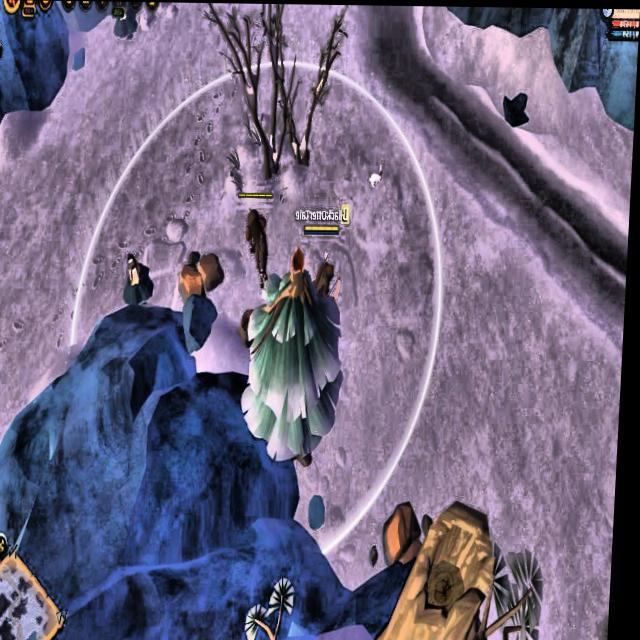copperore: (124, 248, 159, 305)
limestone: (384, 498, 438, 566), (178, 243, 229, 303)
